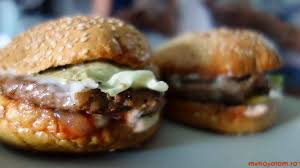hamburger: (1, 15, 161, 155)
